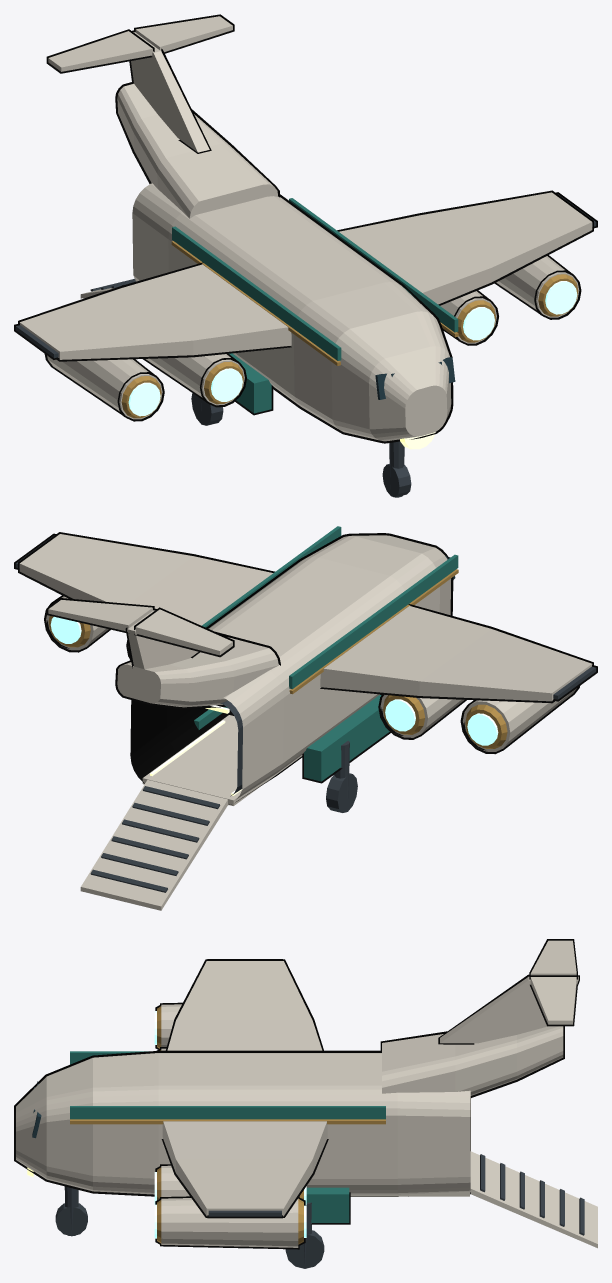
Rendered from Landing_Dropship.glb.
3 views of the same model, one above another, from view 1: azimuth 30°, elevation 25°; view 2: azimuth 150°, elevation 25°; view 3: azimuth 270°, elevation 25° (orthographic). The views are drawn at different scales.
Parts seen in each view (by area): view 1: Dropship_Fuselage, Dropship_Wings, Dropship_Boom, Dropship_Pods, Dropship_OutlineHull, Dropship_Tail, Dropship_Banding, Dropship_PodGlow, Dropship_Gear, Dropship_Sponsons; view 2: Dropship_Wings, Dropship_Fuselage, Dropship_Ramp, Dropship_OutlineHull, Dropship_Boom, Dropship_Tail, Dropship_Pods, Dropship_Hold, Dropship_Banding, Dropship_Sponsons, Dropship_PodGlow, Dropship_Gear (+2 smaller); view 3: Dropship_Fuselage, Dropship_Wings, Dropship_Boom, Dropship_Pods, Dropship_Tail, Dropship_Banding, Dropship_Ramp, Dropship_OutlineHull, Dropship_Gear, Dropship_Sponsons, Dropship_PodGlow, Dropship_Hold.
Boxes of the visible parts, x1,y1,x2,y2 form: Dropship_Fuselage: (132, 183, 451, 441); Dropship_Wings: (15, 192, 596, 359); Dropship_Boom: (117, 83, 277, 218); Dropship_Pods: (47, 256, 579, 419); Dropship_OutlineHull: (14, 14, 597, 443); Dropship_Tail: (48, 16, 232, 152); Dropship_Banding: (171, 198, 458, 365); Dropship_PodGlow: (128, 281, 577, 416); Dropship_Gear: (191, 393, 411, 497); Dropship_Sponsons: (229, 353, 271, 413); Dropship_Wings: (15, 534, 596, 701); Dropship_Fuselage: (208, 535, 450, 799); Dropship_Ramp: (80, 780, 227, 910); Dropship_OutlineHull: (14, 532, 597, 804); Dropship_Boom: (117, 637, 278, 707); Dropship_Tail: (48, 600, 232, 669); Dropship_Pods: (46, 596, 576, 751); Dropship_Hold: (142, 715, 302, 805); Dropship_Banding: (202, 526, 458, 694); Dropship_Sponsons: (194, 695, 389, 781); Dropship_PodGlow: (50, 616, 498, 745); Dropship_Gear: (326, 740, 357, 812); Dropship_Fuselage: (16, 1053, 470, 1194); Dropship_Wings: (162, 961, 327, 1216); Dropship_Boom: (382, 1026, 563, 1095); Dropship_Pods: (157, 1004, 303, 1247); Dropship_Tail: (440, 940, 578, 1043); Dropship_Banding: (70, 1051, 385, 1124); Dropship_Ramp: (470, 1151, 597, 1248); Dropship_OutlineHull: (14, 939, 579, 1249); Dropship_Gear: (55, 1186, 324, 1268); Dropship_Sponsons: (306, 1187, 349, 1222); Dropship_PodGlow: (154, 1011, 306, 1238); Dropship_Hold: (350, 1191, 469, 1196).
Size of the model in its own units: 15.55 by 7.46 by 15.15.
